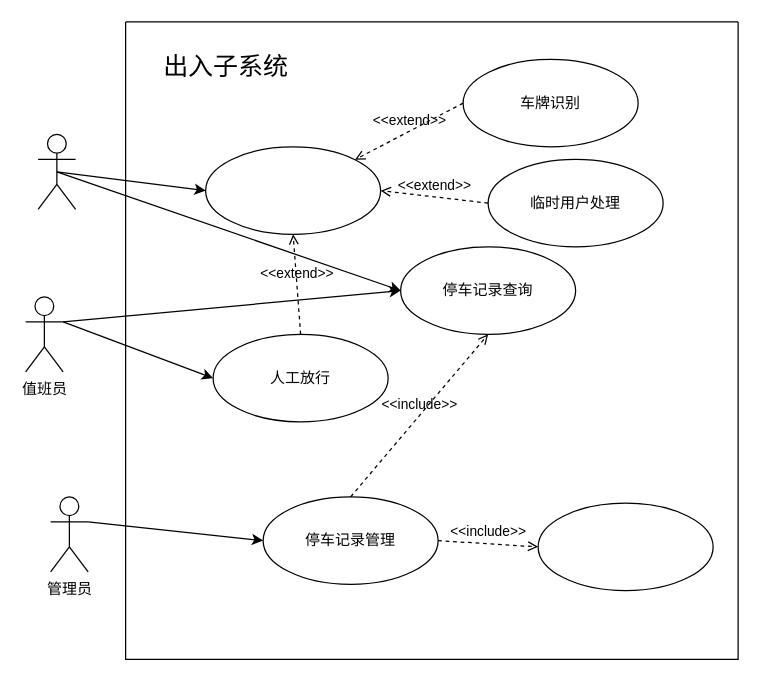
Image size: 760x681. Some labels were removed from this diagram. Here are the shapes that lost their labels. From the top down, the centre of each, then its label:
the point at 56,171: 用户
the point at 292,190: 自动入场/出场
the point at 625,546: 数据归档
